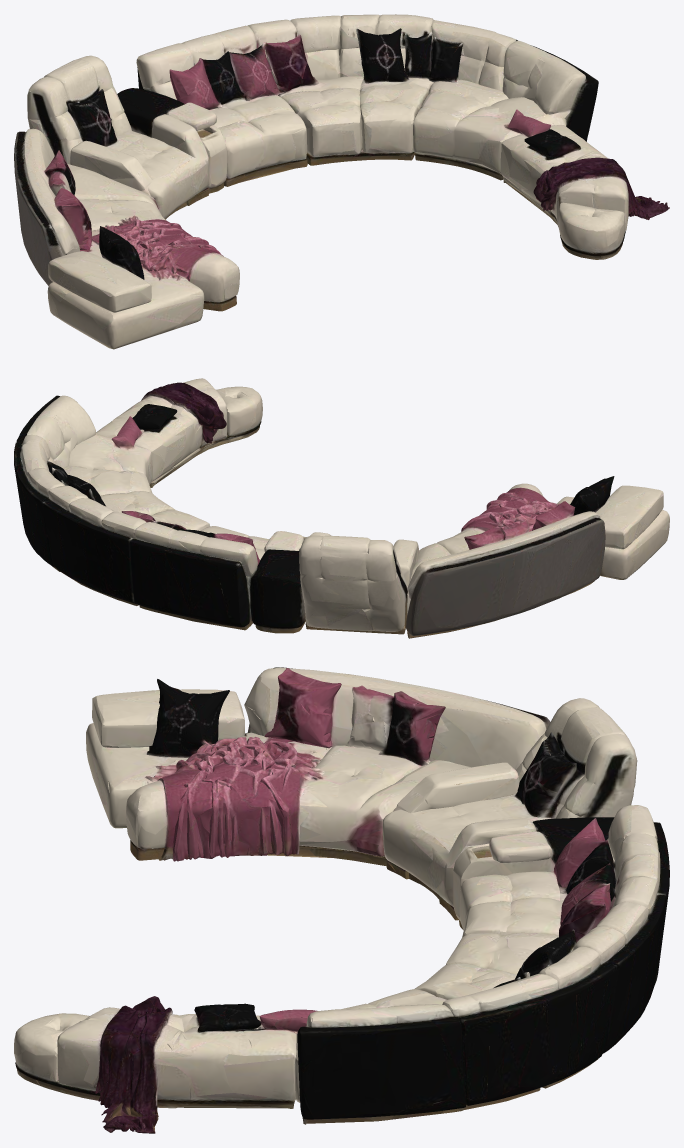
Rendered from theater_sofa.glb.
3 renders of one model, top to bottom at view 1: azimuth 30°, elevation 25°; view 2: azimuth 150°, elevation 25°; view 3: azimuth 270°, elevation 25°, orthographic. The views are drawn at different scales.
Visible parts, largest first — view 1: room_theater_sofa; view 2: room_theater_sofa; view 3: room_theater_sofa.
Part boxes in pixels (bbox=[...]): room_theater_sofa: bbox=[14, 14, 669, 349]; room_theater_sofa: bbox=[14, 378, 669, 638]; room_theater_sofa: bbox=[14, 667, 669, 1133].
Bounding box in the file's own units: 4.2 × 0.7784 × 3.11.
Materials: 1 (1 with a texture image).
